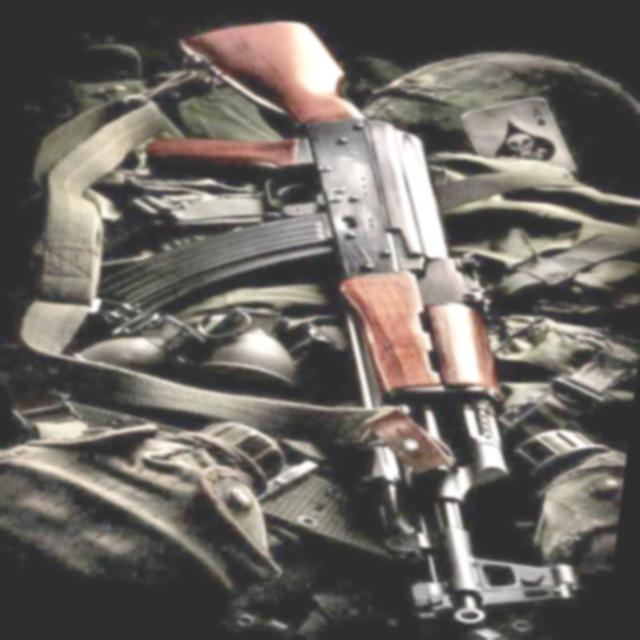ak: (51, 0, 636, 638)
